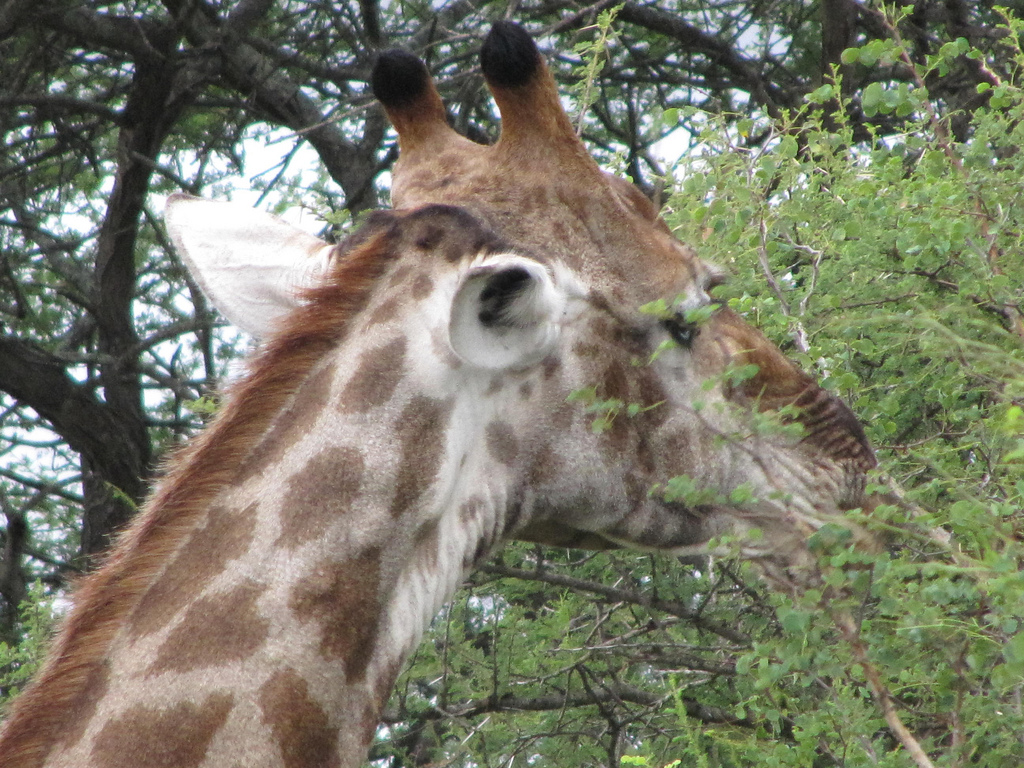giraffe: (82, 26, 868, 754)
